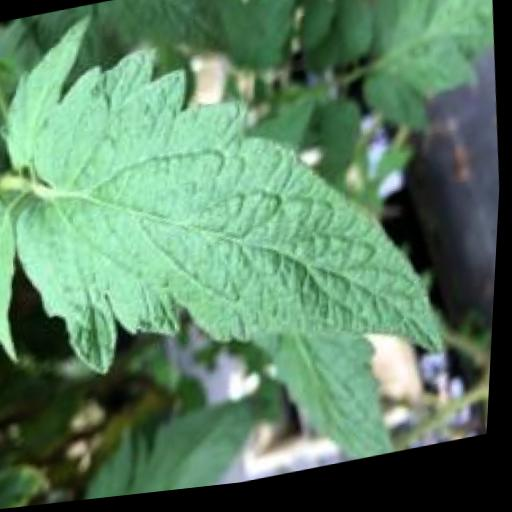Healthy: (0, 0, 470, 444)
